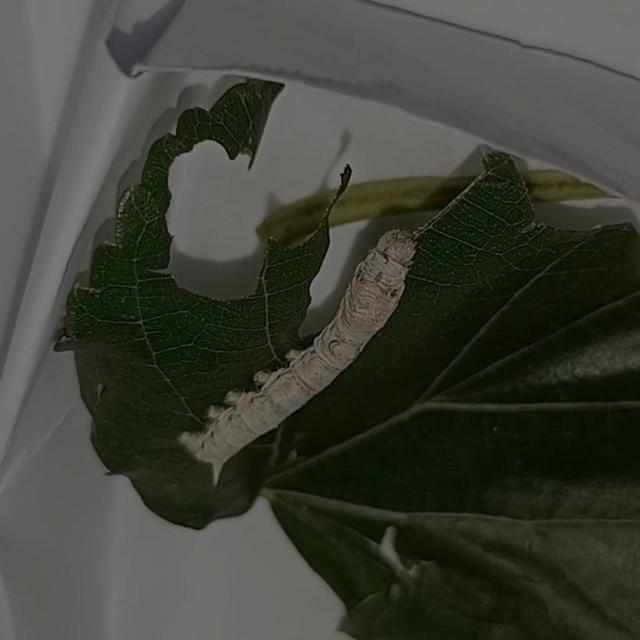Healthy: (125, 208, 476, 510)
